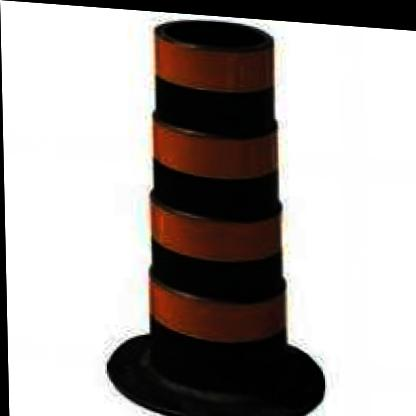obstacle: (139, 18, 292, 377)
